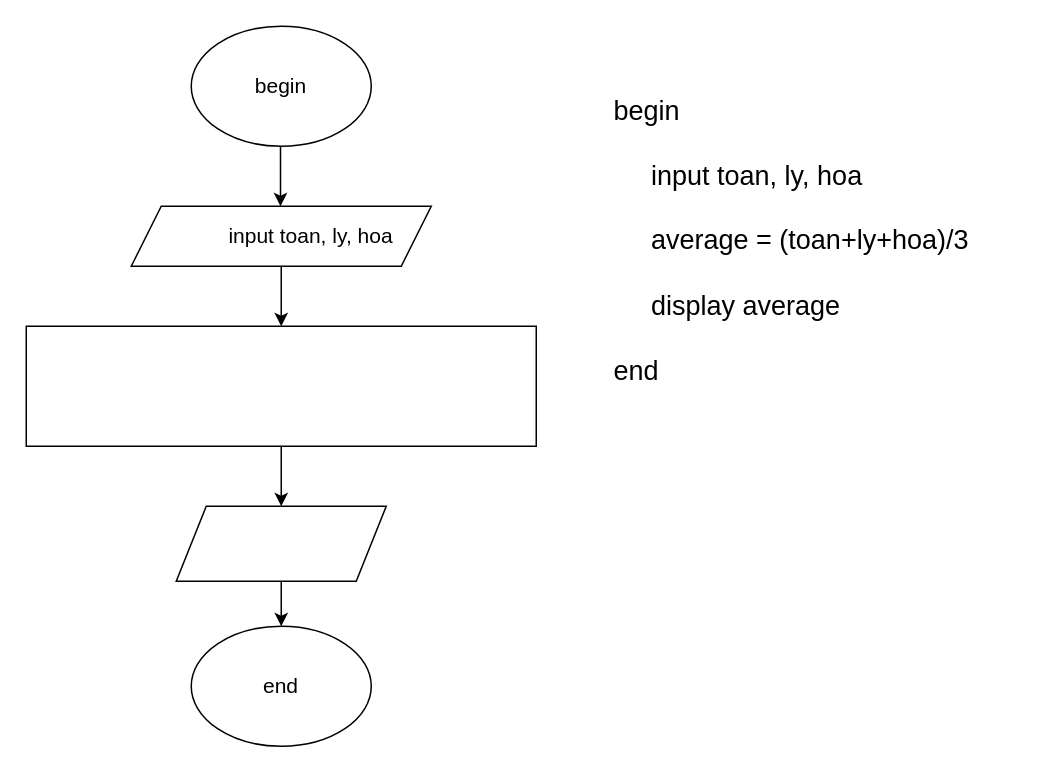
This 1043x773 diagram has some shape labels left out. The shapes that lost their labels are listed below. From the top down, each one's box as (x1, y1, x2, y2) in pixels, then its label:
(25, 325, 536, 446): average = (math + physics + chemistry) / 3
(175, 505, 386, 581): display average
